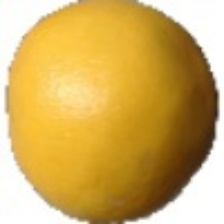grapes: (35, 29, 210, 224)
